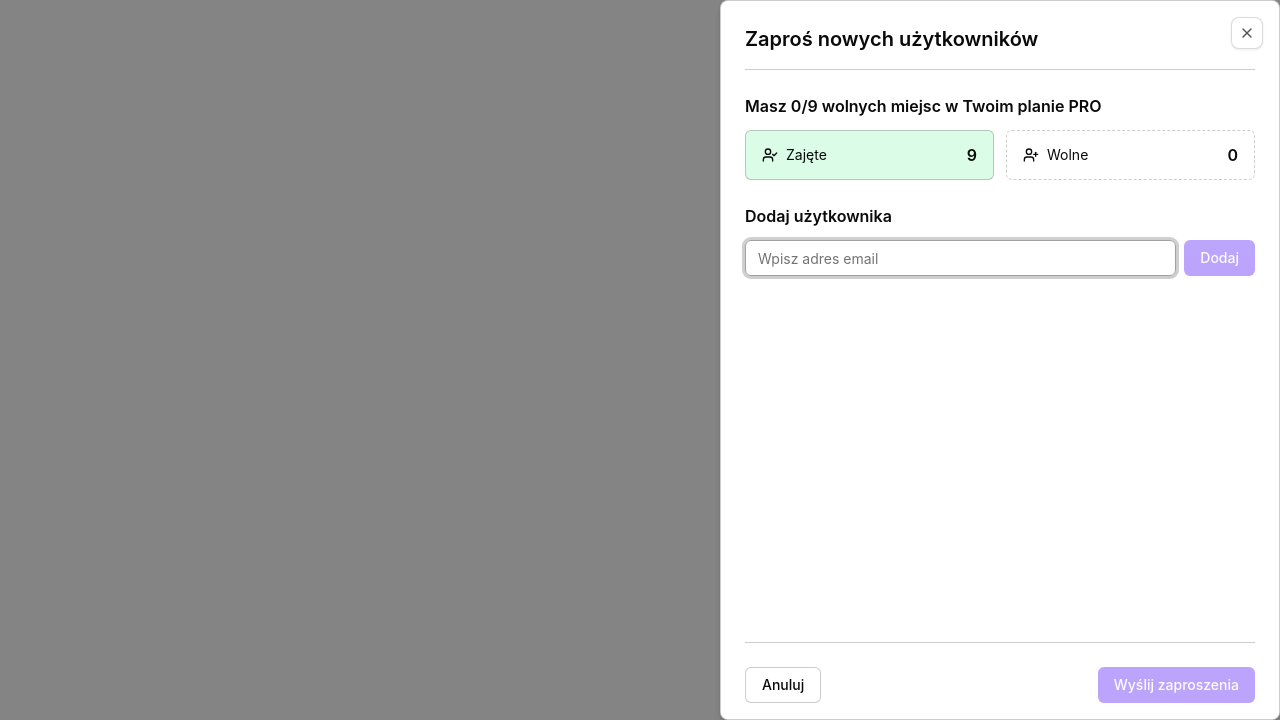
Test case: InviteUsersDialog Payment Flow › Error Handling › should allow retry after error
Type "user@example.com" into the field with placeholder "Wpisz adres email".
click(961, 258); type("user@example.com")  # box [745, 240, 1176, 276]
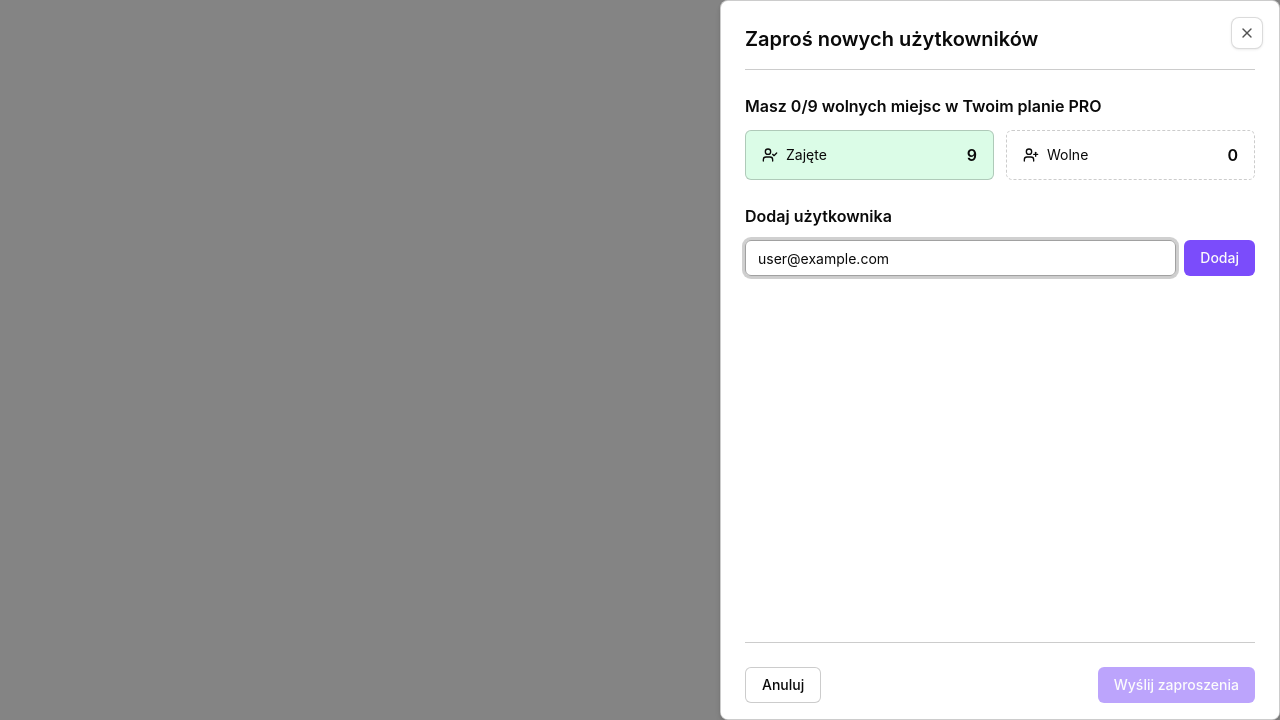
Click the button "Dodaj".
click(1220, 258)  # box [1184, 240, 1255, 276]
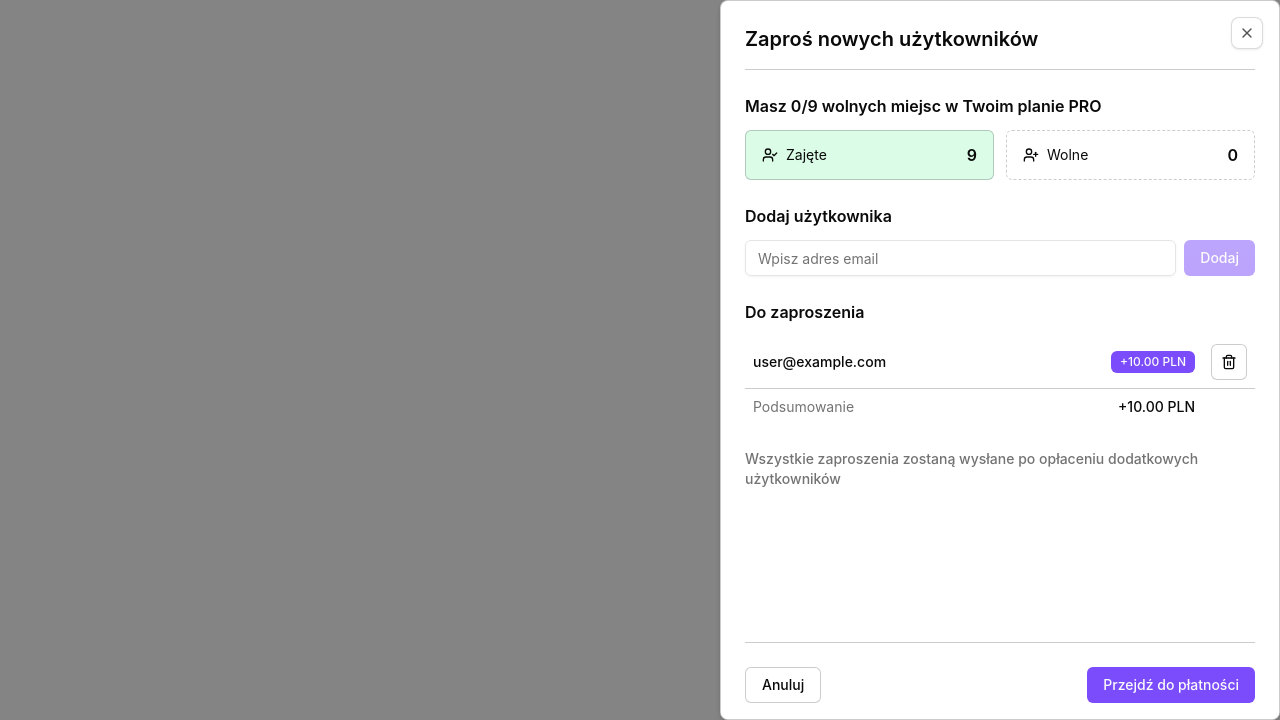
Click the button "Przejdź do płatności".
click(1171, 685)  # box [1087, 667, 1255, 703]
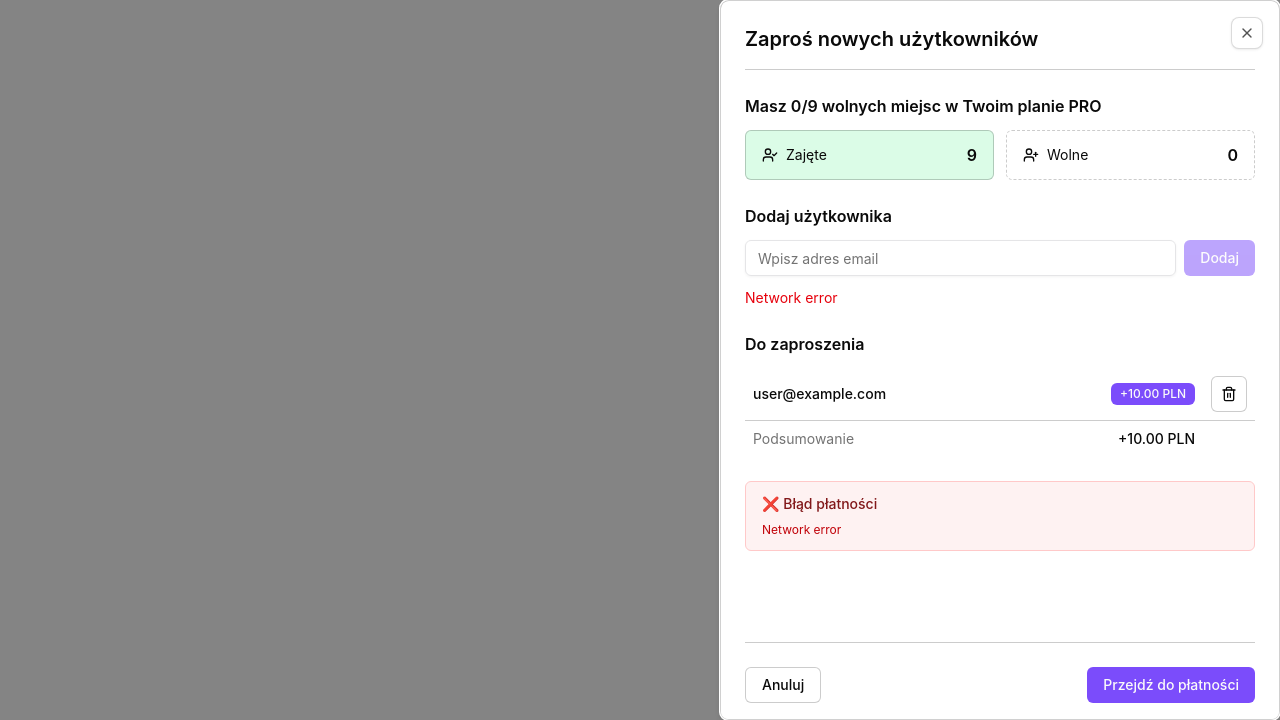
Check: the button "Przejdź do płatności" is enabled, box [1087, 667, 1255, 703]
Check: the text "❌ Błąd płatności" is shown, box [762, 495, 877, 512]
Check: the text "Network error" below "Dodaj użytkownika" is shown, box [745, 289, 838, 306]
